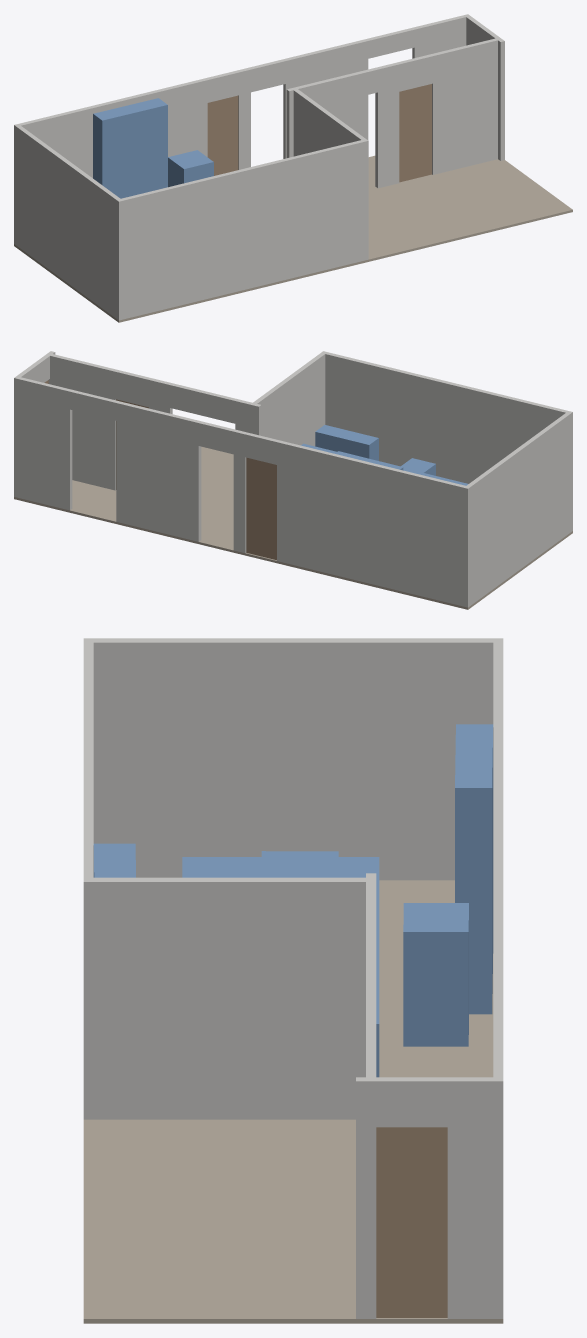
File: room_022.glb
3 renders of one model, top to bottom at view 1: azimuth 30°, elevation 25°; view 2: azimuth 150°, elevation 25°; view 3: azimuth 270°, elevation 25°, orthographic. The views are drawn at different scales.
Visible parts, largest first — view 1: shell_wall_1_s0, shell_floor, shell_wall_0_s0, shell_wall_3_s4, obj_001, shell_wall_5_s6, shell_wall_5_s2, shell_wall_3_door, shell_wall_3_s2, shell_wall_2_s0, shell_wall_5_door, shell_wall_5_s0 (+9 smaller); view 2: shell_wall_5_s6, shell_wall_1_s0, shell_wall_0_s0, shell_wall_5_s2, shell_wall_5_s0, shell_floor, shell_wall_3_s4, shell_wall_2_s0, shell_wall_5_door, shell_wall_3_s1, shell_wall_5_s4, obj_006 (+9 smaller); view 3: shell_wall_0_s0, shell_wall_2_s0, shell_floor, shell_wall_4_s2, shell_wall_4_door, obj_001, obj_004, shell_wall_1_s0, obj_002, shell_wall_4_s1, shell_wall_3_s4, shell_wall_4_s0 (+4 smaller).
Boxes of the visible parts, bbox=[...] form: shell_wall_1_s0: bbox=[116, 139, 368, 320]; shell_floor: bbox=[14, 155, 572, 322]; shell_wall_0_s0: bbox=[14, 124, 123, 320]; shell_wall_3_s4: bbox=[431, 37, 501, 174]; obj_001: bbox=[93, 98, 167, 198]; shell_wall_5_s6: bbox=[14, 78, 207, 244]; shell_wall_5_s2: bbox=[283, 39, 368, 158]; shell_wall_3_door: bbox=[399, 84, 431, 182]; shell_wall_3_s2: bbox=[375, 62, 399, 188]; shell_wall_2_s0: bbox=[293, 89, 368, 259]; shell_wall_5_door: bbox=[207, 95, 238, 175]; shell_wall_5_s0: bbox=[412, 14, 468, 58]; shell_wall_5_s6: bbox=[277, 440, 470, 606]; shell_wall_1_s0: bbox=[321, 351, 572, 532]; shell_wall_0_s0: bbox=[463, 411, 572, 607]; shell_wall_5_s2: bbox=[116, 401, 201, 541]; shell_wall_5_s0: bbox=[14, 377, 72, 510]; shell_floor: bbox=[14, 446, 572, 609]; shell_wall_3_s4: bbox=[46, 353, 117, 490]; shell_wall_2_s0: bbox=[250, 351, 326, 446]; shell_wall_5_door: bbox=[246, 457, 276, 559]; shell_wall_3_s1: bbox=[170, 383, 237, 423]; shell_wall_5_s4: bbox=[233, 430, 247, 553]; obj_006: bbox=[315, 425, 378, 460]; shell_wall_0_s0: bbox=[83, 638, 503, 880]; shell_wall_2_s0: bbox=[83, 877, 376, 1119]; shell_floor: bbox=[83, 880, 503, 1323]; shell_wall_4_s2: bbox=[447, 1077, 503, 1318]; shell_wall_4_door: bbox=[376, 1127, 447, 1317]; obj_001: bbox=[455, 724, 493, 1014]; obj_004: bbox=[403, 903, 468, 1046]; shell_wall_1_s0: bbox=[83, 638, 93, 1119]; obj_002: bbox=[182, 857, 379, 1077]; shell_wall_4_s1: bbox=[367, 1077, 447, 1127]; shell_wall_3_s4: bbox=[366, 1013, 376, 1318]; shell_wall_4_s0: bbox=[356, 1077, 366, 1318].
Size of the model in its own units: 10.4 by 2.65 by 4.16.
